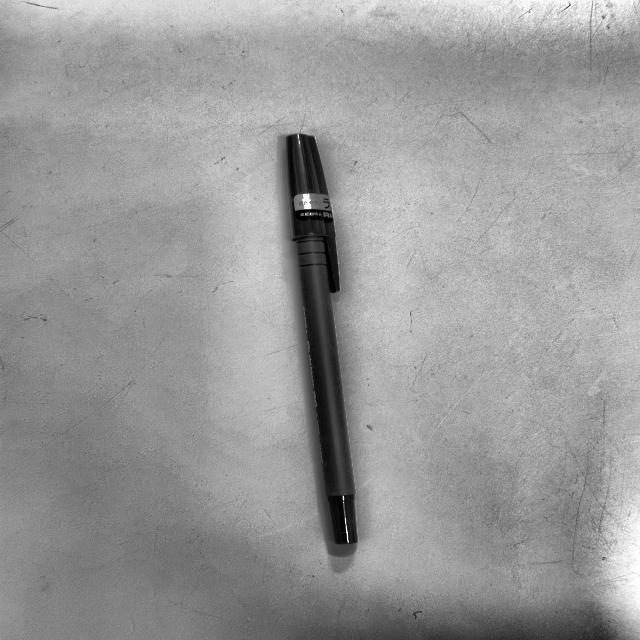Pen: (283, 134, 359, 549)
